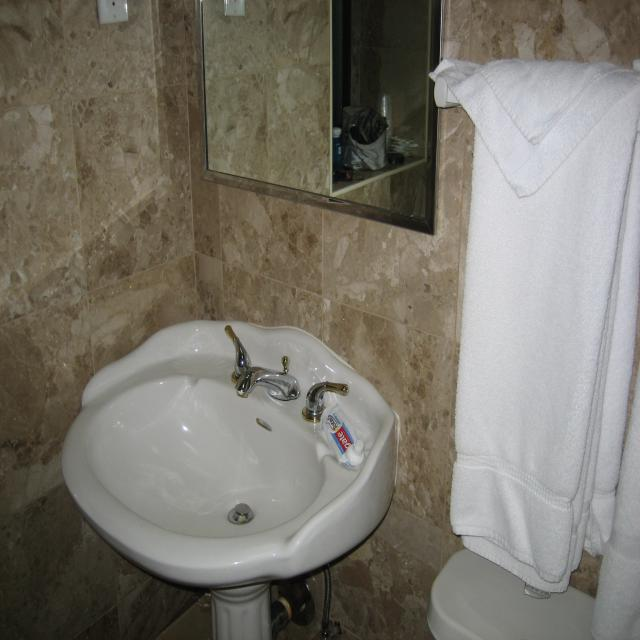mirror crop: (197, 0, 445, 234)
sink basin: (61, 321, 396, 639)
